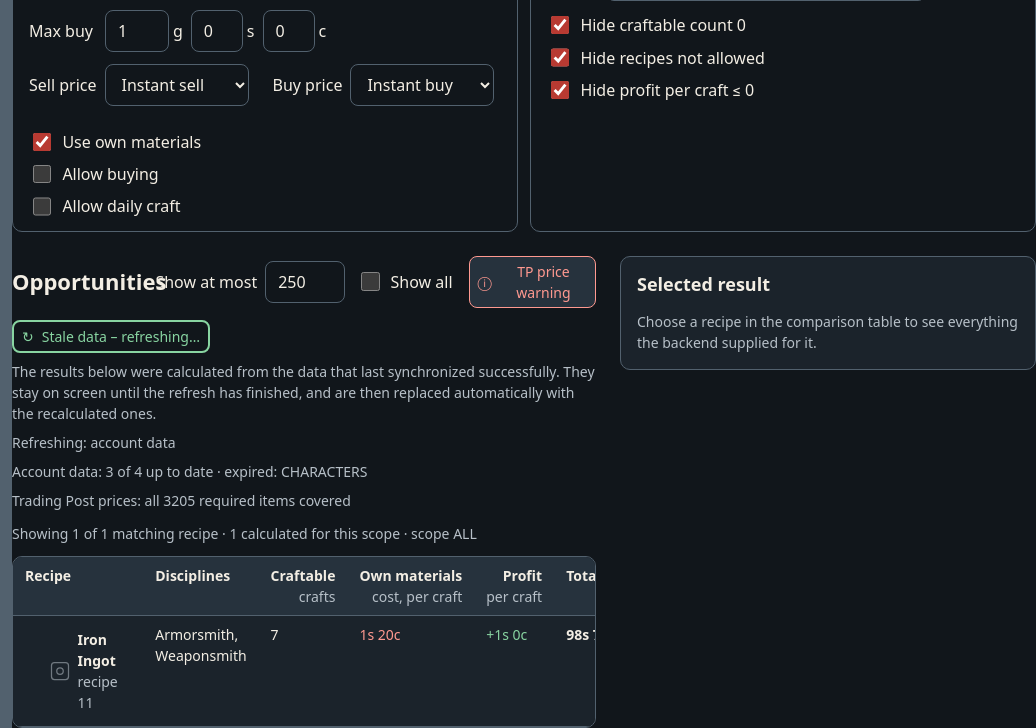
it: Crafting Profit provisional refresh workflow › backend values and policies are untouched (AC5) › rendersTheSuppliedMonetaryValuesStatesAndQuantitiesUnchanged
The image size is (1036, 728).
(page scrolled)
Click the button with test id "select-row". click: coordinates (78, 671)
box: [25,624,131,718]
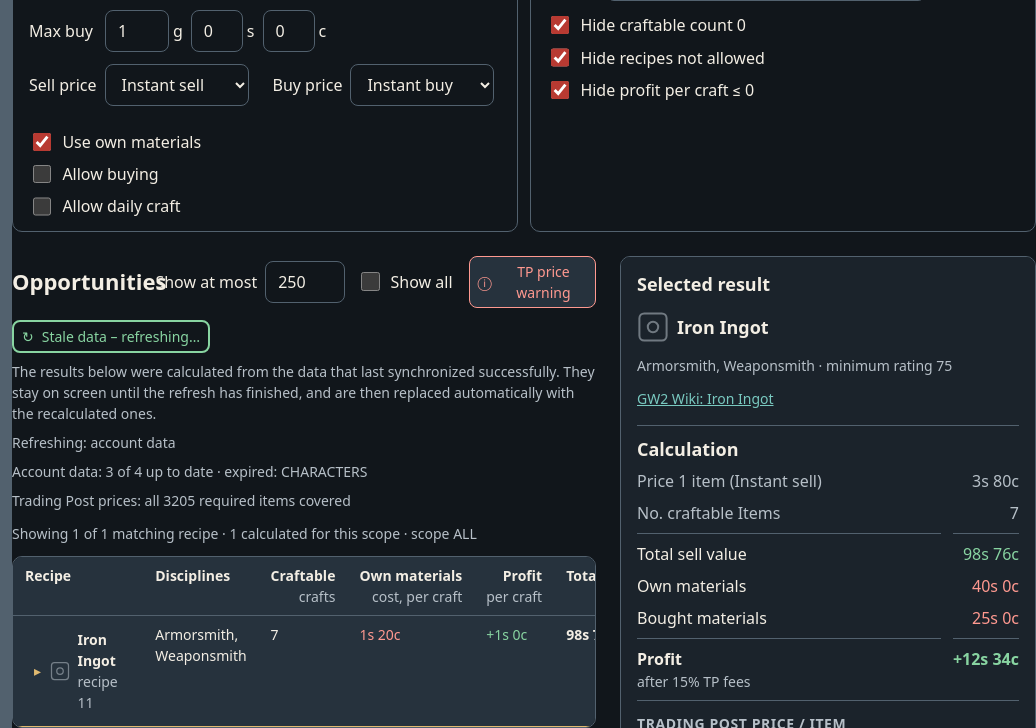
Expected: the text "98s 76c" in the row of "1s 20c" is shown, [566,625,596,644]
Expected: the element with test id "detail-calculation" shows "No. craftable Items 7", [637,469,1019,692]
